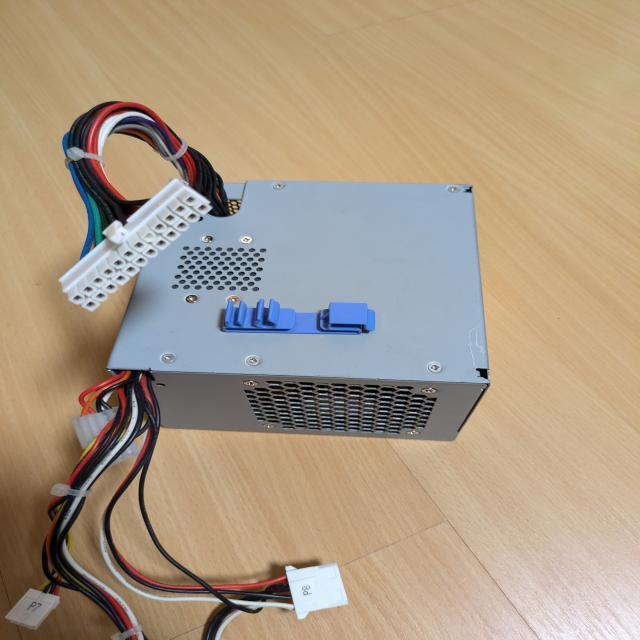PSU: (108, 178, 494, 442)
